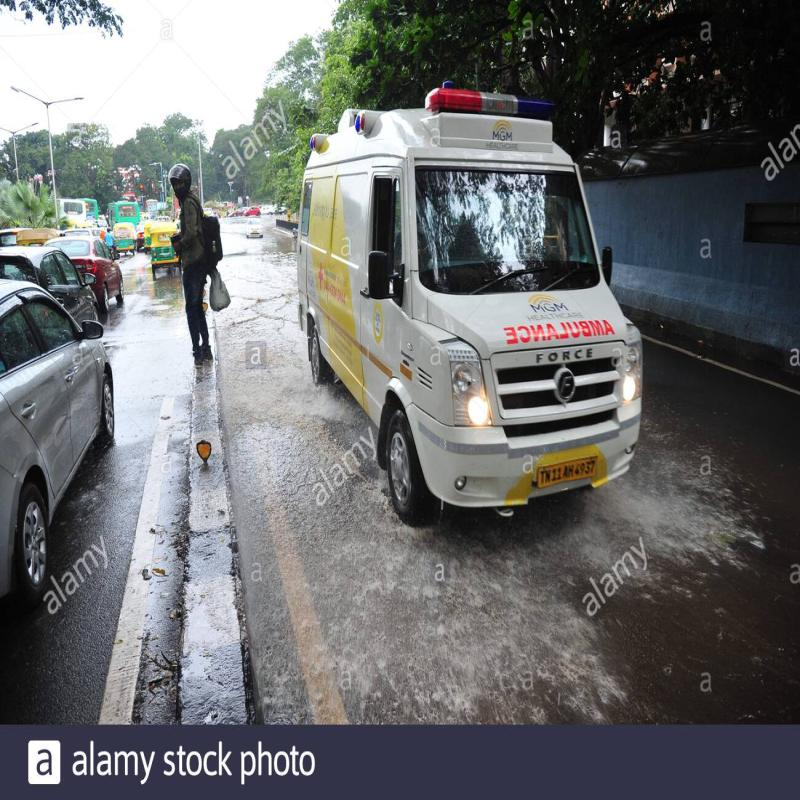ambulance: (307, 103, 621, 544)
